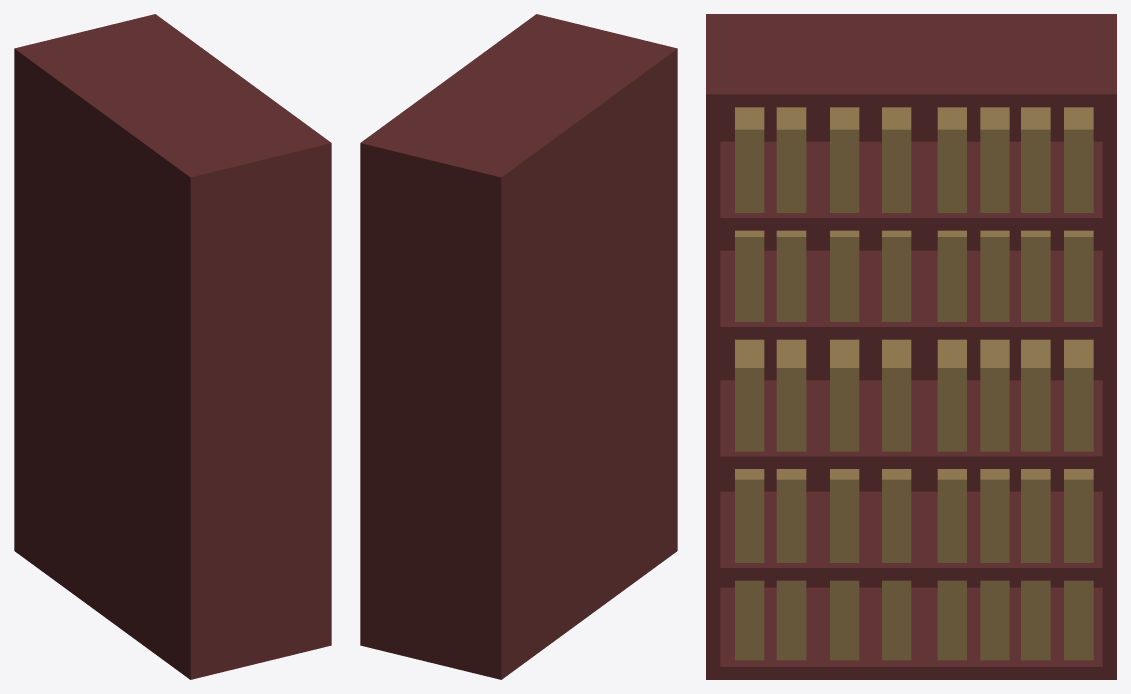
The model's file is Shelf with books.fbx.
3 renders of one model, left to right at view 1: azimuth 30°, elevation 25°; view 2: azimuth 150°, elevation 25°; view 3: azimuth 270°, elevation 25°, orthographic. The views are drawn at different scales.
Visible parts, largest first — view 1: Cube_2_3; view 2: Cube_2_3; view 3: Cube_2_3, Cube_4_2, Cube_2_2, Cube_1_2, Cube_3_2, Cube_19, Cube_26, Cube_24, Cube_23, Cube_25, Cube_22, Cube_21 (+33 smaller).
Part boxes in pixels (x1=…): Cube_2_3: x1=14, y1=14, x2=331, y2=679; Cube_2_3: x1=360, y1=14, x2=677, y2=679; Cube_2_3: x1=706, y1=14, x2=1116, y2=679; Cube_4_2: x1=720, y1=491, x2=1102, y2=580; Cube_2_2: x1=720, y1=250, x2=1102, y2=339; Cube_1_2: x1=720, y1=141, x2=1102, y2=230; Cube_3_2: x1=720, y1=380, x2=1102, y2=468; Cube_19: x1=776, y1=339, x2=806, y2=451; Cube_26: x1=1064, y1=339, x2=1093, y2=451; Cube_24: x1=1021, y1=339, x2=1050, y2=451; Cube_23: x1=980, y1=339, x2=1009, y2=451; Cube_25: x1=735, y1=339, x2=764, y2=451; Cube_22: x1=937, y1=339, x2=966, y2=451; Cube_21: x1=882, y1=339, x2=911, y2=451.
Size of the model in its own units: 107 by 363 by 231.
